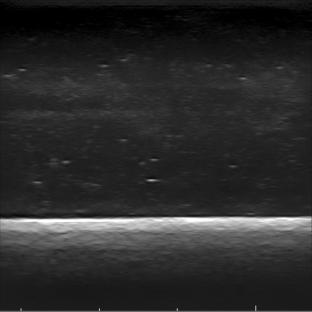vessel: (0, 77, 134, 125)
